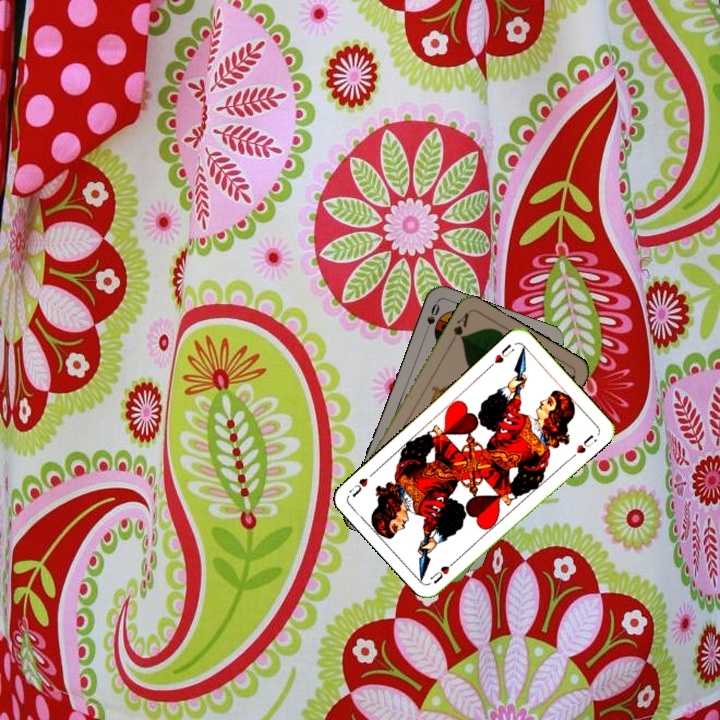GA: (447, 309, 472, 347)
HU: (426, 555, 460, 586), (485, 340, 517, 371)
SO: (420, 299, 442, 338)
